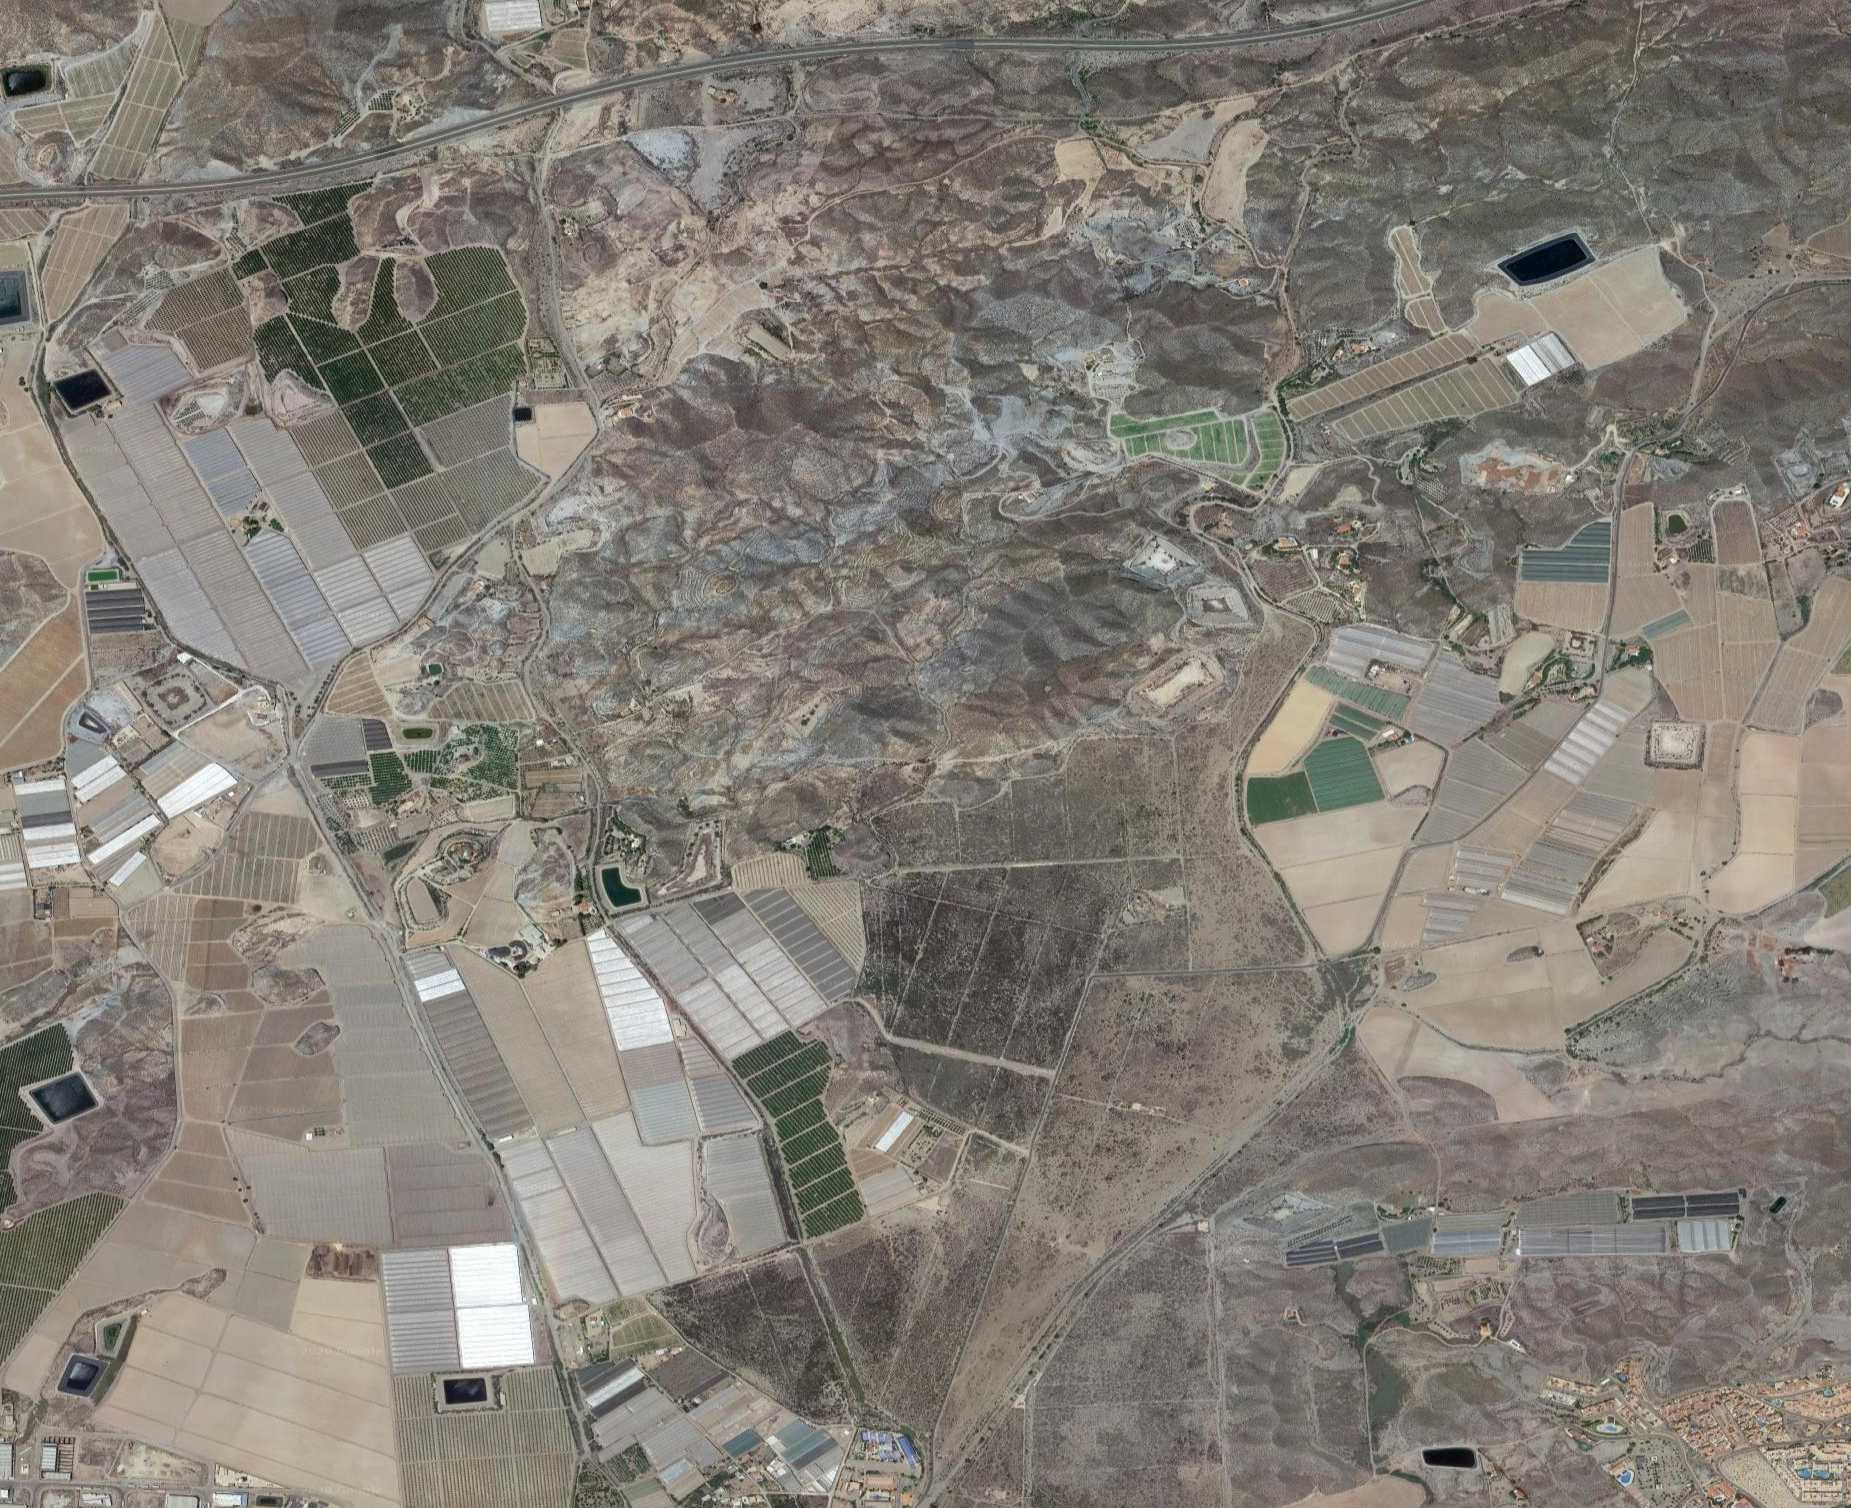motorway: (2, 2, 1439, 237)
